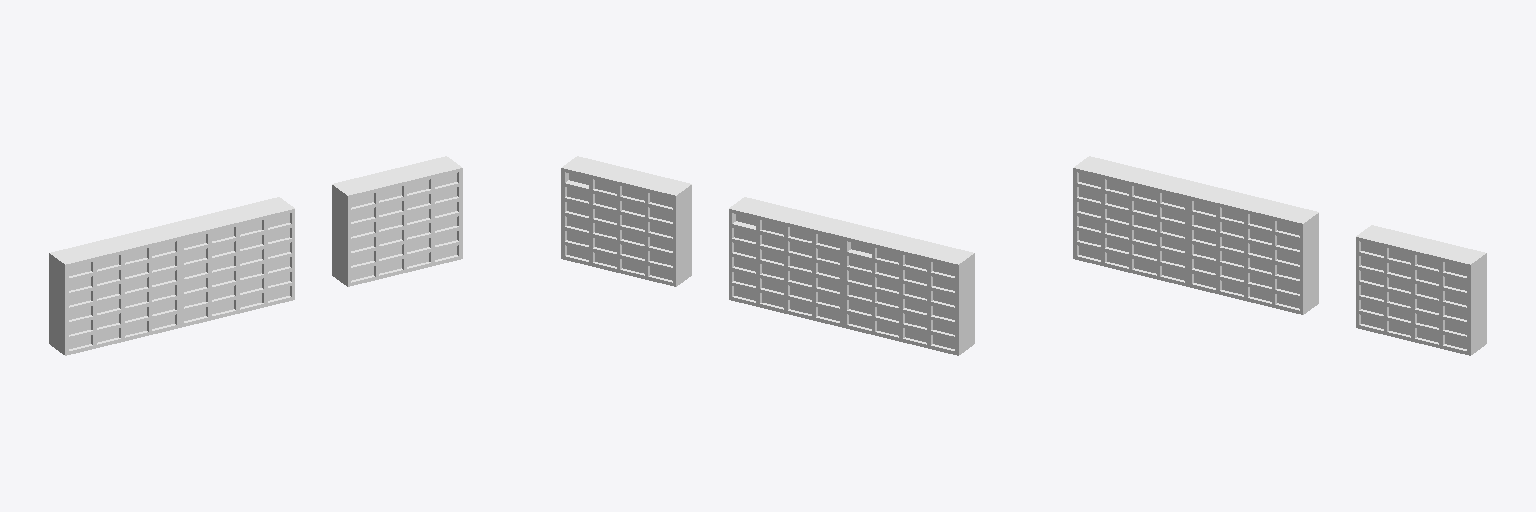
Rendered from union.obj.
3 views of the same model, side by side, from view 1: azimuth 30°, elevation 25°; view 2: azimuth 150°, elevation 25°; view 3: azimuth 330°, elevation 25° (orthographic).
Parts seen in each view (by area): view 1: object 1; view 2: object 1; view 3: object 1.
Part boxes in pixels (x1,y1,x2,y2): object 1: (49,156,462,355); object 1: (561,156,974,355); object 1: (1073,156,1486,355).
Bounding box in the file's own units: 11.4 × 2.5 × 0.8.